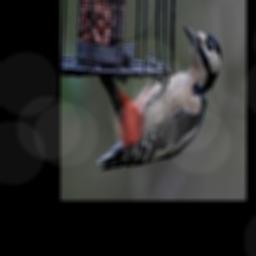Woodpecker: (97, 25, 221, 171)
